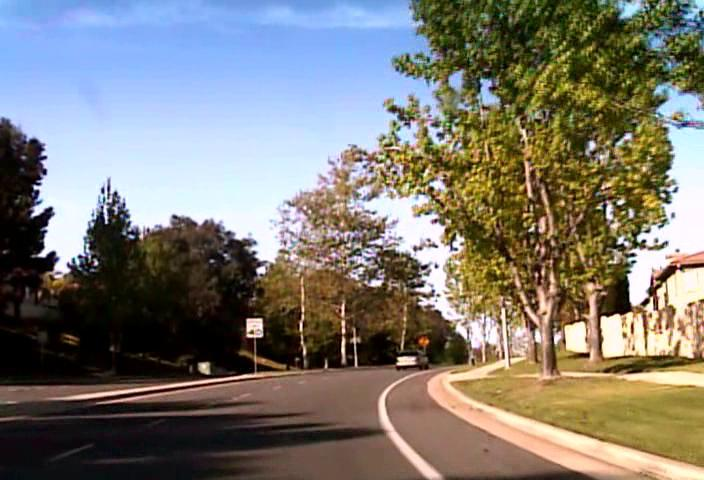speedLimit40: (245, 317, 263, 337)
